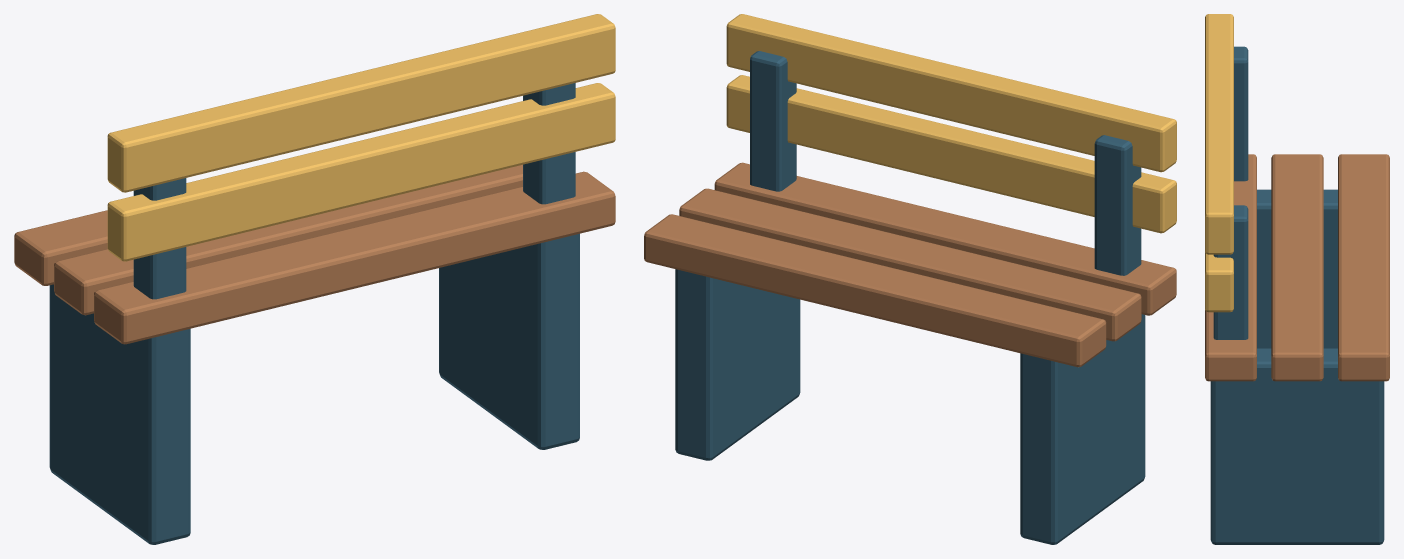
Rendered from bench.glb.
3 renders of one model, left to right at view 1: azimuth 30°, elevation 25°; view 2: azimuth 150°, elevation 25°; view 3: azimuth 270°, elevation 25°, orthographic. The views are drawn at different scales.
Visible parts, largest first — view 1: bench; view 2: bench; view 3: bench.
Part boxes in pixels (<box>): bench: <box>14,14,615,544</box>; bench: <box>644,14,1176,544</box>; bench: <box>1205,14,1389,544</box>.
Size of the model in its own units: 1.65 by 1.32 by 0.64.
